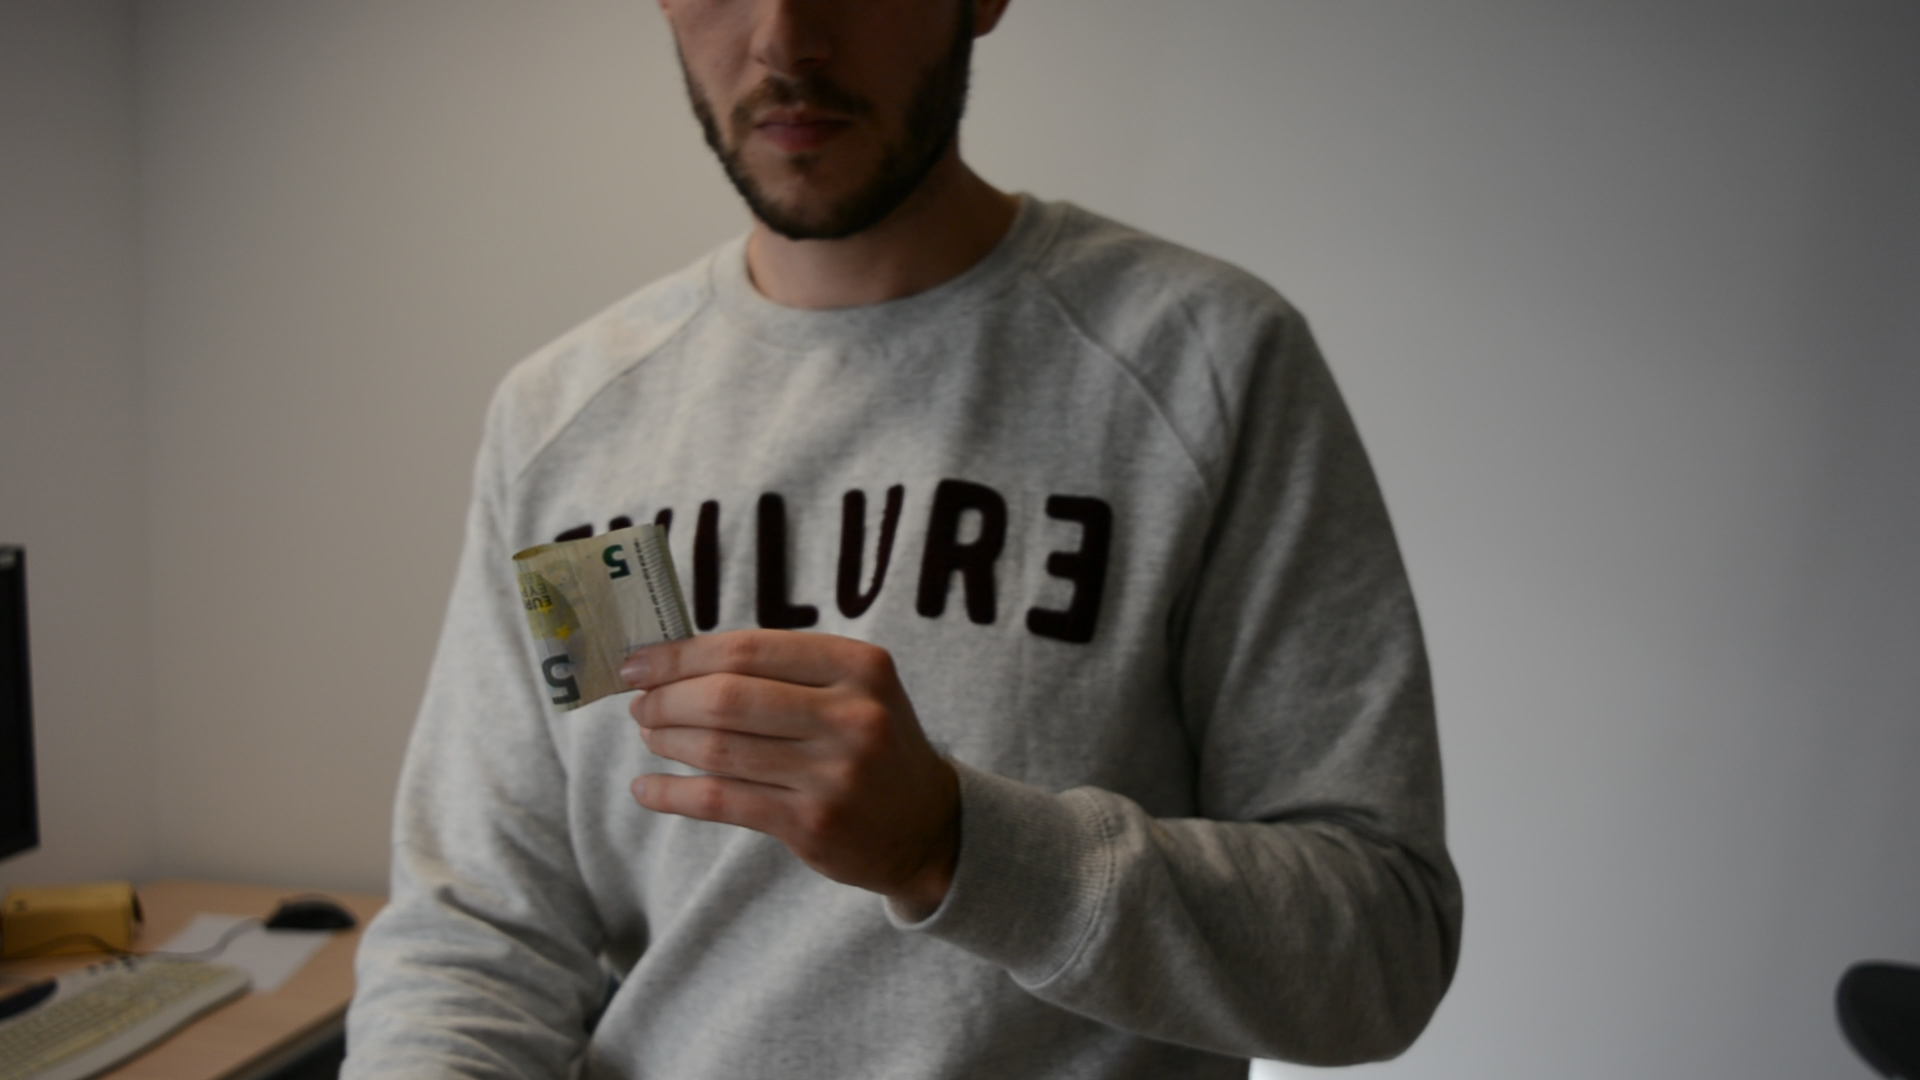billete: (510, 522, 698, 717)
